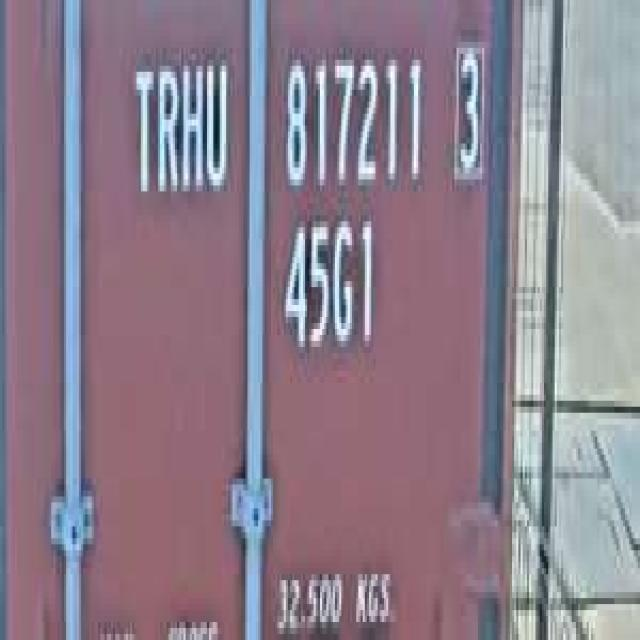dv: (448, 30, 486, 191)
owner: (126, 42, 230, 209)
serial: (277, 36, 427, 203)
size: (277, 203, 380, 371)
